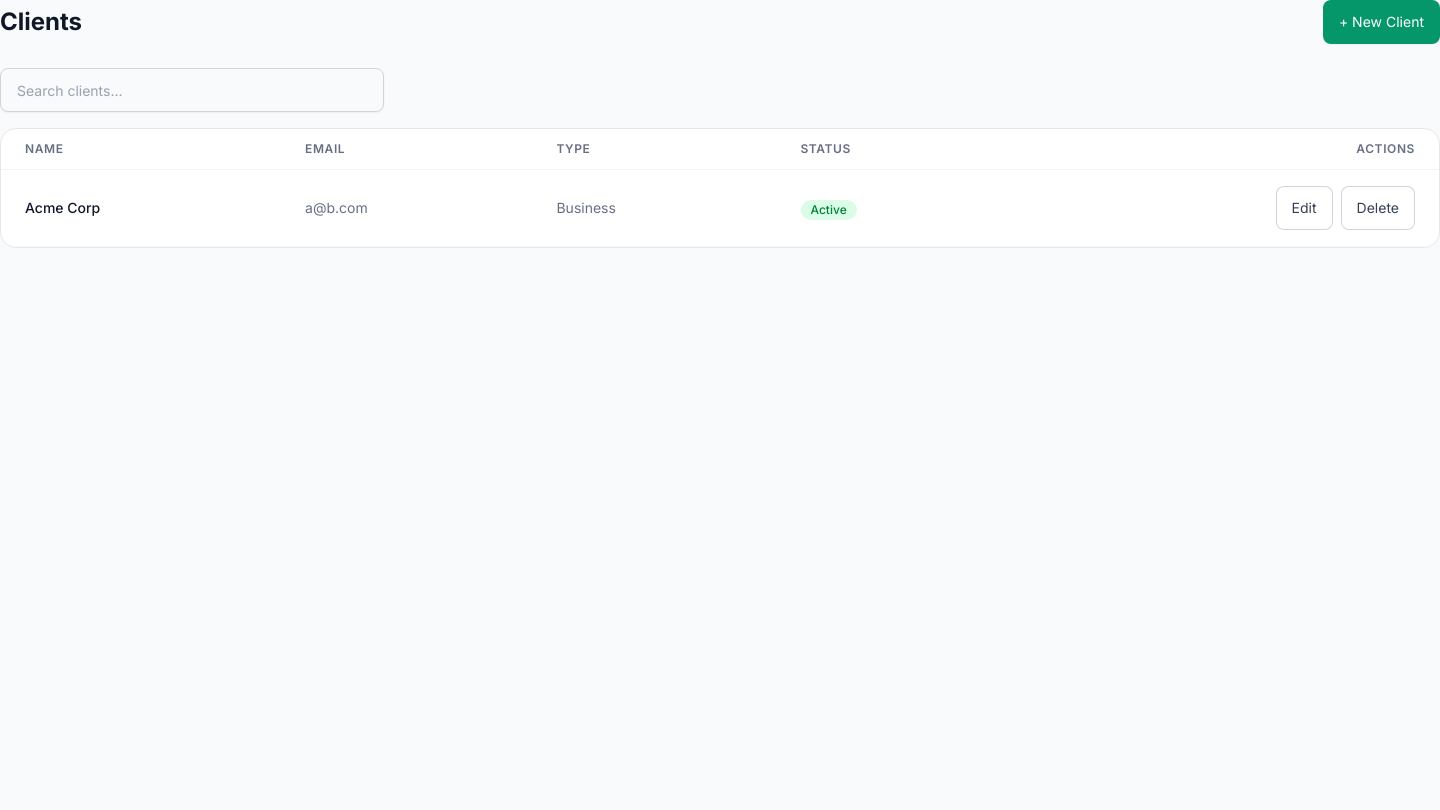
ClientList — ConfirmModal replaces window.confirm › opens a dialog when Delete is clicked
Click the button "Delete": (1378, 208) [1341, 186, 1415, 230]
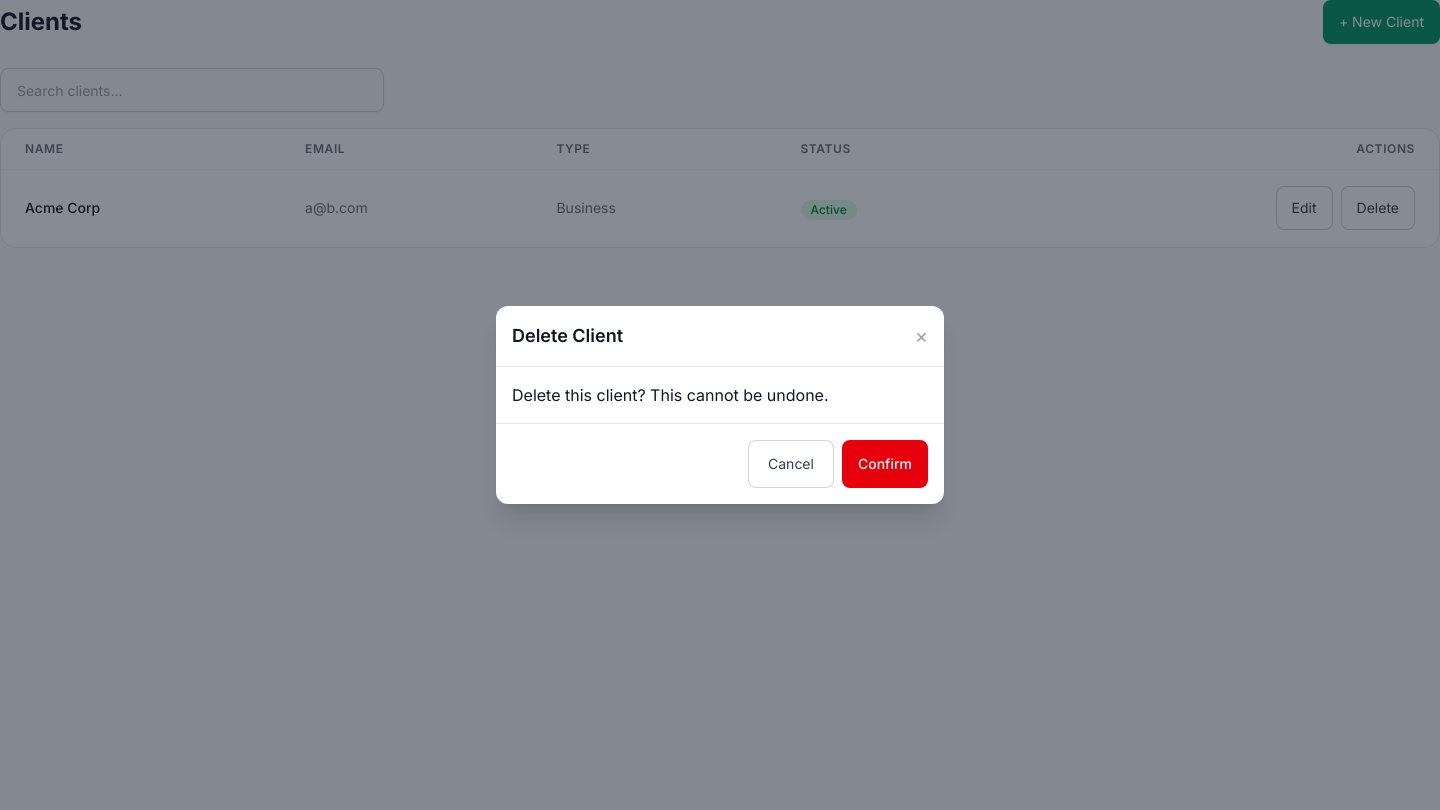
Now the dialog is shown, box [496, 306, 944, 504]
